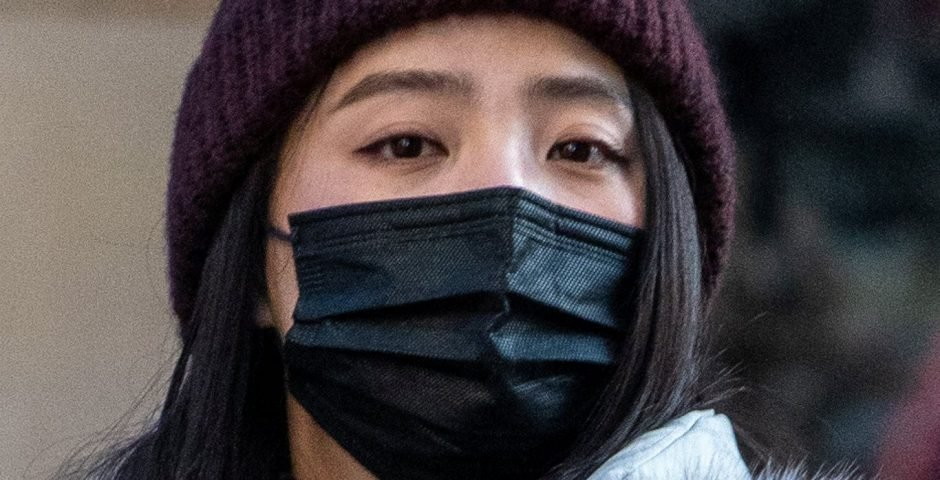mask: (255, 184, 692, 460)
